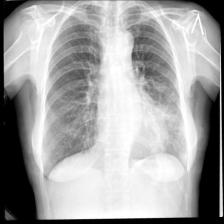tuberculosis: (31, 0, 192, 182)
